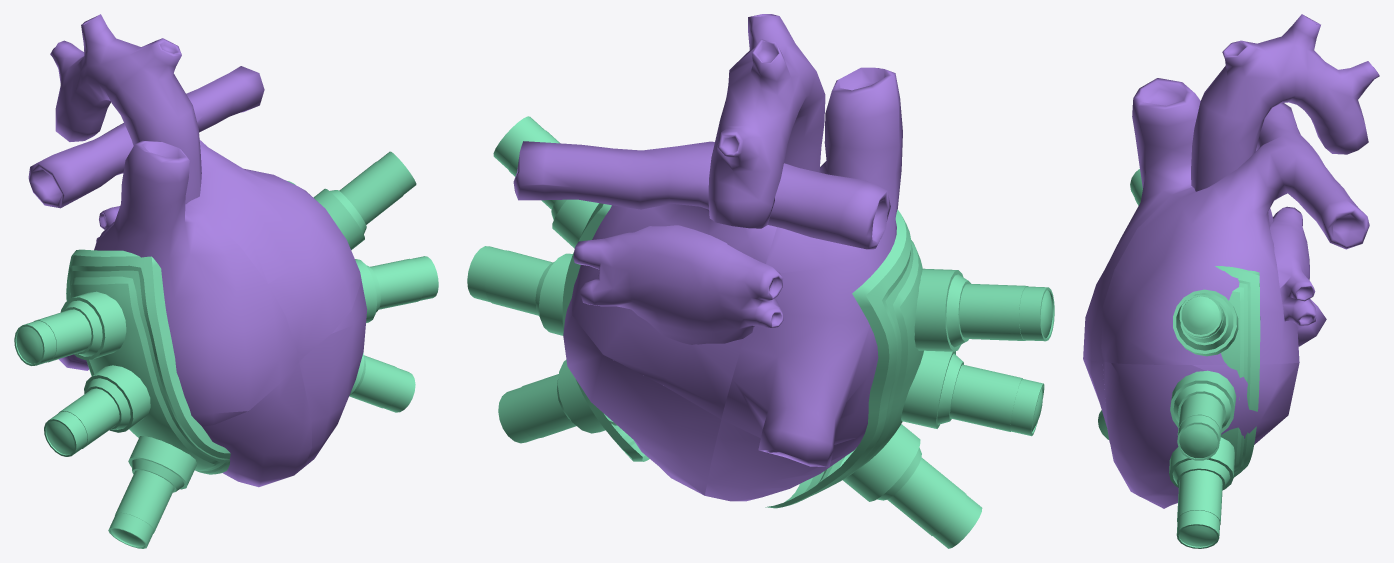
Rendered from CorazónPartidoFinal.fbx.
3 renders of one model, left to right at view 1: azimuth 30°, elevation 25°; view 2: azimuth 150°, elevation 25°; view 3: azimuth 270°, elevation 25°, orthographic. The views are drawn at different scales.
Parts seen in each view (by area): view 1: AuriculaIZ, AuriculaDR, Aorta, placa_02_low, VentriculoIZ, VentriculoDR, pistonMov001_low, pistonMov002_low, pistonMov000_low, pistonMov005_low, pistonMov004_low, Piston004_low (+5 smaller); view 2: AuriculaIZ, AuriculaDR, VenasPulmonares, Aorta, VentriculoDR, placa_02_low, VentriculoIZ, pistonMov000_low, pistonMov001_low, pistonMov002_low, pistonMov004_low, Piston004_low (+8 smaller); view 3: AuriculaDR, Aorta, VentriculoDR, AuriculaIZ, placa_01_low, VenasPulmonares, pistonMov003_low, pistonMov004_low, Piston001_low, Piston000_low, pistonMov005_low, Piston002_low (+1 smaller).
Boxes of the visible parts, <box> form: AuriculaIZ: <box>58,140,298,426</box>; AuriculaDR: <box>28,66,361,361</box>; Aorta: <box>50,14,201,204</box>; placa_02_low: <box>66,249,230,474</box>; VentriculoIZ: <box>202,362,311,487</box>; VentriculoDR: <box>299,281,367,466</box>; pistonMov001_low: <box>44,388,119,456</box>; pistonMov002_low: <box>108,470,174,548</box>; pistonMov000_low: <box>14,309,91,365</box>; pistonMov005_low: <box>339,151,416,224</box>; pistonMov004_low: <box>370,256,438,309</box>; Piston004_low: <box>60,291,126,359</box>; AuriculaIZ: <box>721,67,902,467</box>; AuriculaDR: <box>513,141,890,418</box>; VenasPulmonares: <box>573,225,783,344</box>; Aorta: <box>708,14,825,228</box>; VentriculoDR: <box>563,298,721,495</box>; placa_02_low: <box>765,209,923,508</box>; VentriculoIZ: <box>704,419,865,501</box>; pistonMov000_low: <box>959,283,1054,341</box>; pistonMov001_low: <box>950,364,1044,436</box>; pistonMov002_low: <box>887,458,982,548</box>; pistonMov004_low: <box>467,246,552,315</box>; Piston004_low: <box>914,268,970,351</box>; AuriculaDR: <box>1101,103,1369,364</box>; Aorta: <box>1191,14,1379,191</box>; VentriculoDR: <box>1102,361,1299,508</box>; AuriculaIZ: <box>1083,78,1326,361</box>; placa_01_low: <box>1215,266,1260,477</box>; VenasPulmonares: <box>1270,206,1316,325</box>; pistonMov003_low: <box>1176,470,1222,548</box>; pistonMov004_low: <box>1177,393,1223,460</box>; Piston001_low: <box>1170,370,1236,432</box>; Piston000_low: <box>1173,289,1238,356</box>; pistonMov005_low: <box>1179,294,1225,342</box>; Piston002_low: <box>1169,437,1234,489</box>.
Size of the model in its own units: 397 by 400 by 238.
